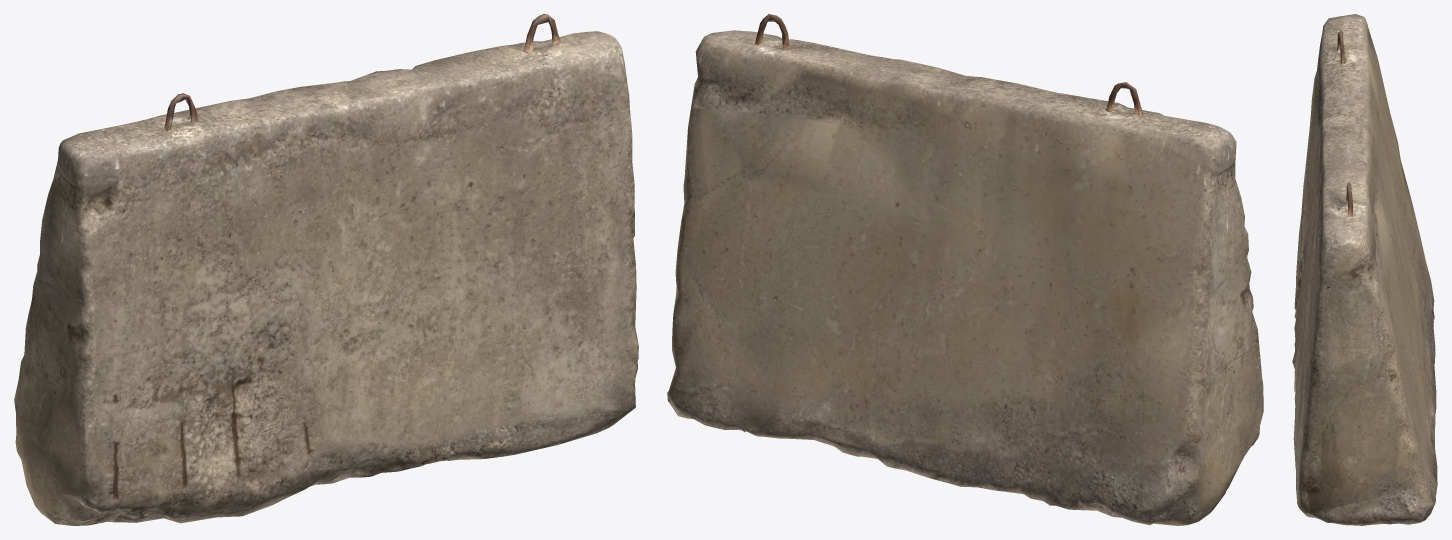
The model's file is road-barrier.glb.
The picture shows the model from 3 angles, left to right: view 1: azimuth 30°, elevation 25°; view 2: azimuth 150°, elevation 25°; view 3: azimuth 270°, elevation 25°; orthographic projection. The views are drawn at different scales.
Visible parts, largest first — view 1: concrete_road_barrier_02; view 2: concrete_road_barrier_02; view 3: concrete_road_barrier_02.
Boxes of the visible parts, box(x1,y1,x2,y2) form: concrete_road_barrier_02: box(14, 14, 638, 525); concrete_road_barrier_02: box(667, 14, 1263, 525); concrete_road_barrier_02: box(1292, 14, 1437, 525).
Bounding box in the file's own units: 1.56 × 1.11 × 0.4417.
1 material, 1 textured.
